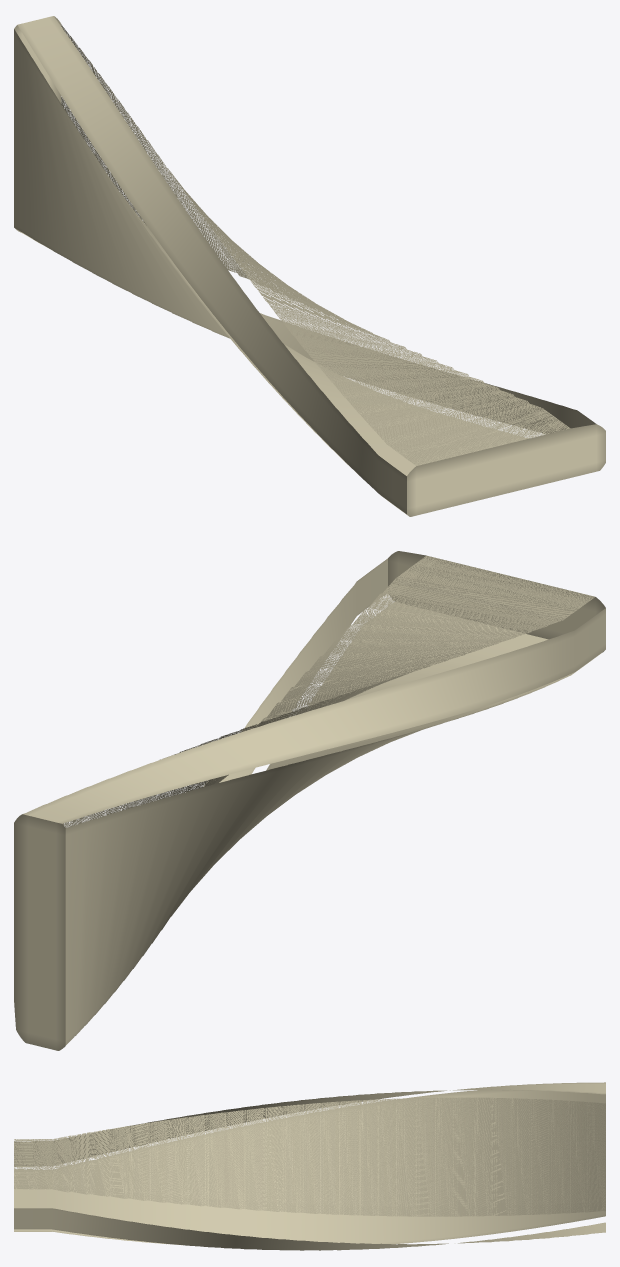
Rendered from TwistR.obj.
3 views of the same model, one above another, from view 1: azimuth 30°, elevation 25°; view 2: azimuth 150°, elevation 25°; view 3: azimuth 270°, elevation 25° (orthographic). The views are drawn at different scales.
Parts seen in each view (by area): view 1: TwistR; view 2: TwistR; view 3: TwistR.
Boxes of the visible parts, x1,y1,x2,y2 form: TwistR: [14, 16, 605, 516]; TwistR: [14, 551, 605, 1050]; TwistR: [14, 1082, 605, 1250].
Bounding box in the file's own units: 8.23 × 8.23 × 30.
